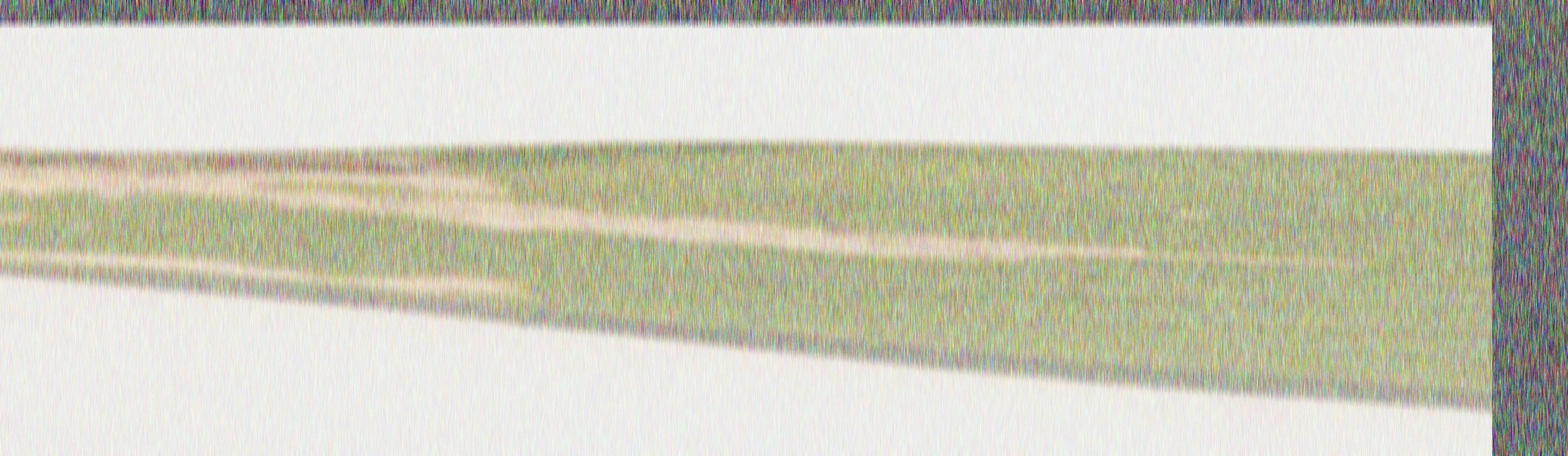Leaf_Blast: (0, 121, 1394, 325)
